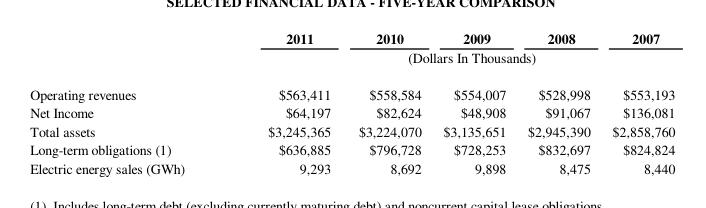table: (29, 28, 674, 176)
table column: (29, 28, 225, 176), (225, 28, 344, 176), (344, 28, 431, 176), (431, 28, 516, 176), (516, 28, 600, 176), (600, 28, 674, 176)
table column header: (29, 28, 674, 75)
table row: (29, 47, 674, 75), (29, 75, 674, 102), (29, 28, 674, 47), (29, 102, 674, 121), (29, 139, 674, 158), (29, 121, 674, 139), (29, 158, 674, 176)
table spanning cell: (225, 47, 674, 75)
